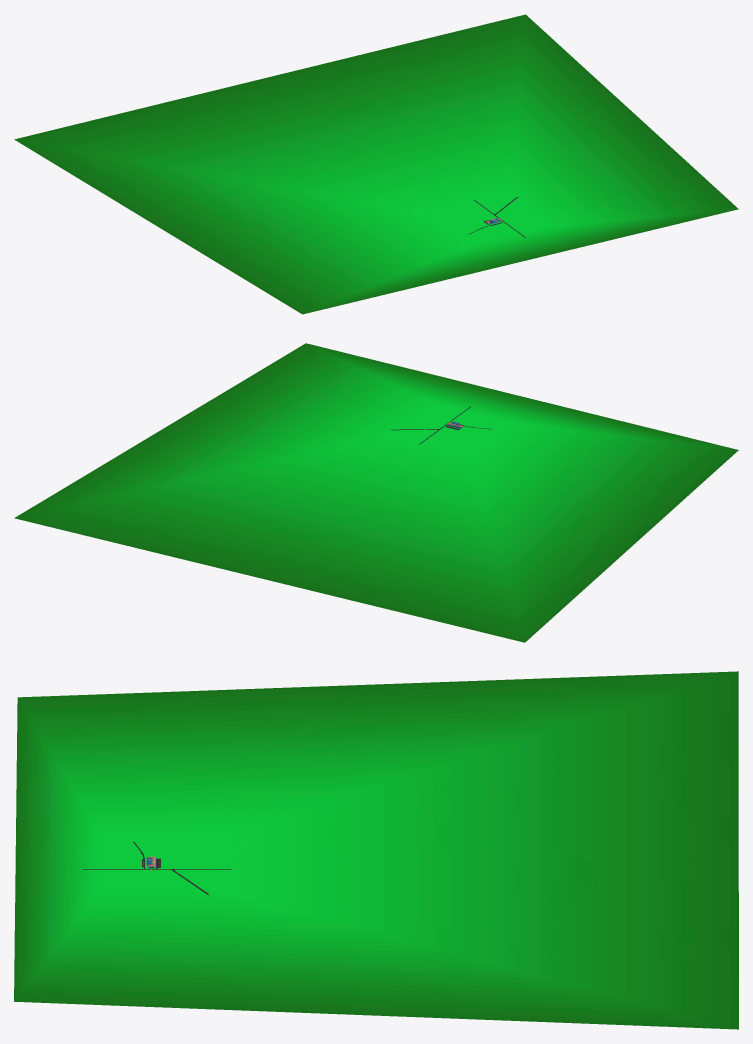
File: building9.gltf
3 views of the same model, one above another, from view 1: azimuth 30°, elevation 25°; view 2: azimuth 150°, elevation 25°; view 3: azimuth 270°, elevation 25° (orthographic). The views are drawn at different scales.
Parts seen in each view (by area): view 1: building_002; view 2: building_002; view 3: building_002.
Part boxes in pixels (bbox=[...]): building_002: bbox=[14, 14, 738, 314]; building_002: bbox=[14, 343, 738, 642]; building_002: bbox=[14, 671, 738, 1029].
Bounding box in the file's own units: 1301 × 6.69 × 1113.
4 materials, 1 textured.
